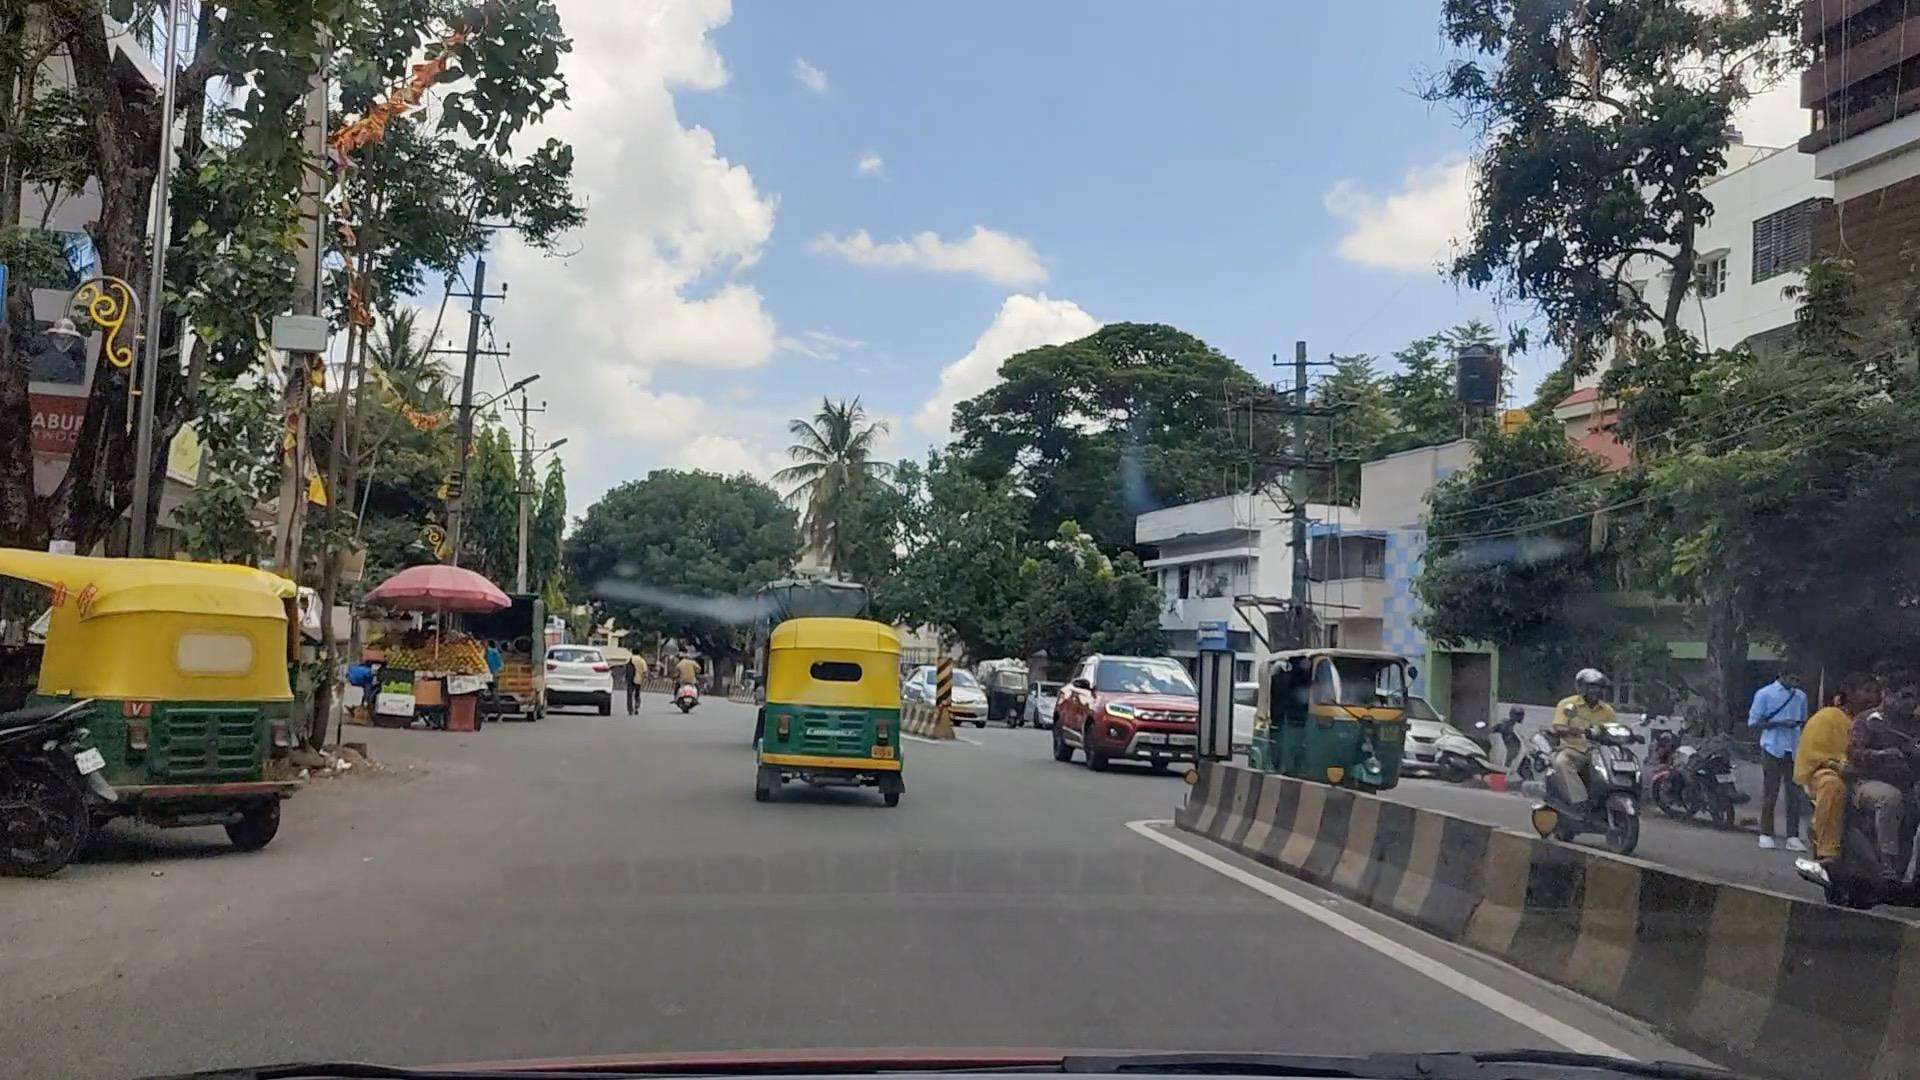LMV: (766, 604, 894, 802)
